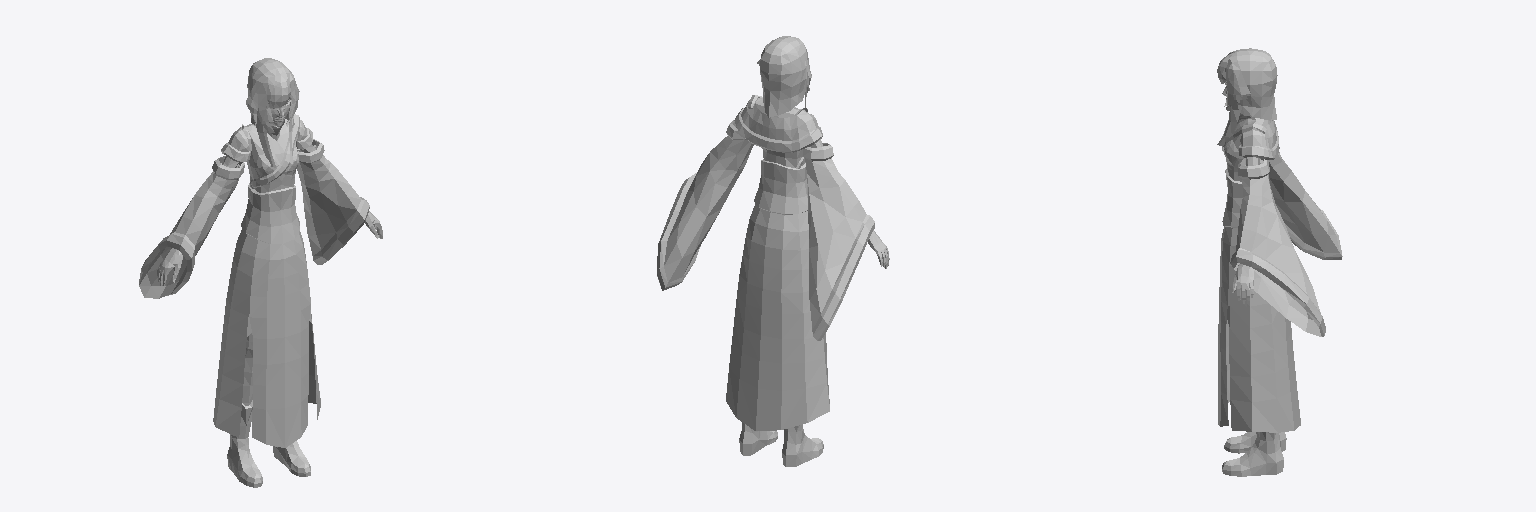
File: ninja perempuan.obj
3 renders of one model, left to right at view 1: azimuth 30°, elevation 25°; view 2: azimuth 150°, elevation 25°; view 3: azimuth 270°, elevation 25°, orthographic.
Parts seen in each view (by area): view 1: objDrawCall_12, objDrawCall_11, objDrawCall_9, objDrawCall_8; view 2: objDrawCall_12, objDrawCall_11, objDrawCall_9; view 3: objDrawCall_12, objDrawCall_11, objDrawCall_9, objDrawCall_8.
Part boxes in pixels (x1,y1,x2,y2): objDrawCall_12: (213, 114, 320, 487); objDrawCall_11: (139, 139, 369, 298); objDrawCall_9: (246, 58, 299, 167); objDrawCall_8: (157, 211, 382, 285); objDrawCall_12: (726, 95, 829, 466); objDrawCall_11: (657, 120, 874, 340); objDrawCall_9: (757, 36, 811, 117); objDrawCall_12: (1218, 113, 1300, 476); objDrawCall_11: (1230, 152, 1342, 336); objDrawCall_9: (1217, 48, 1277, 145); objDrawCall_8: (1232, 264, 1253, 303).
Size of the model in its own units: 14.62 by 26.64 by 7.37.